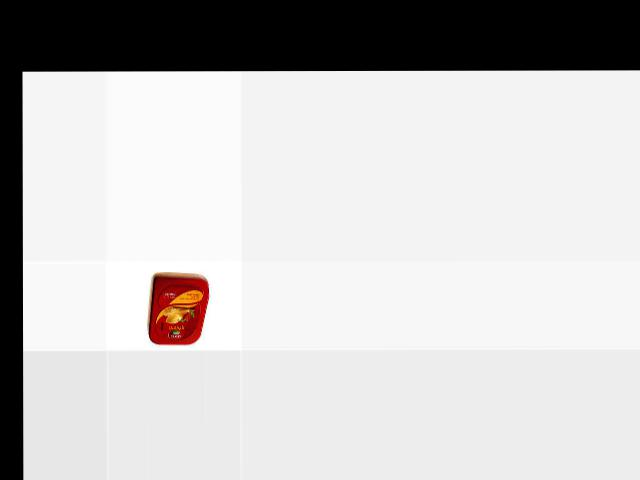cheese: (146, 272, 209, 348)
